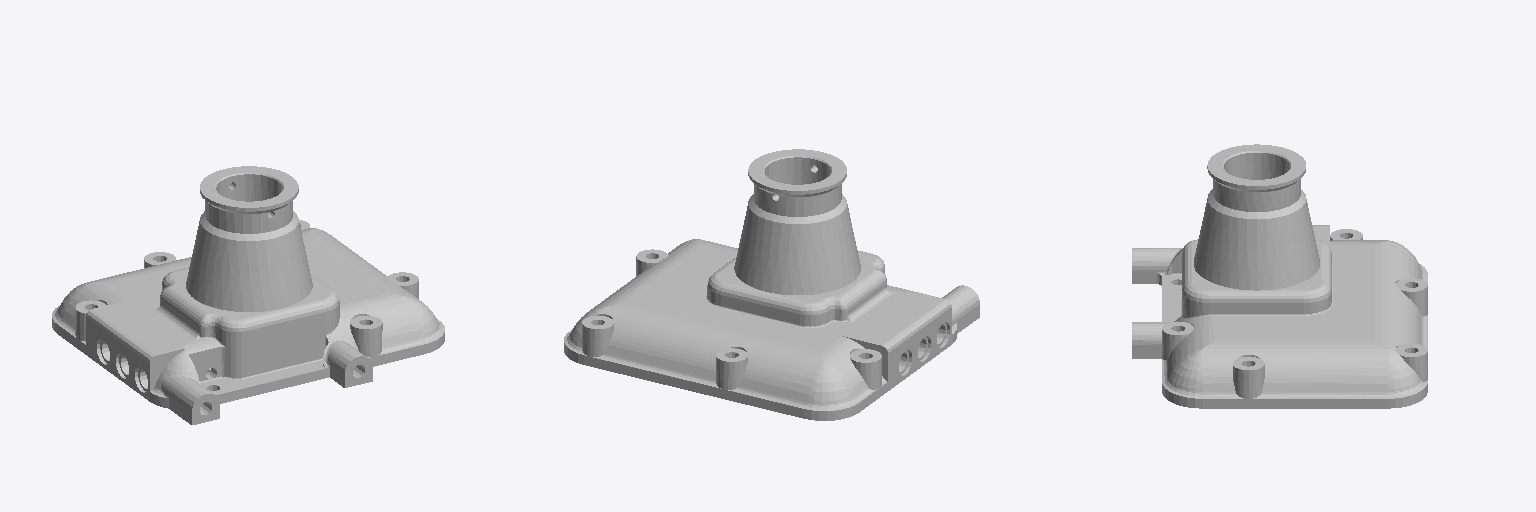
Rendered from 77. Крышка верхняя.obj.
3 renders of one model, left to right at view 1: azimuth 30°, elevation 25°; view 2: azimuth 150°, elevation 25°; view 3: azimuth 270°, elevation 25°, orthographic.
Parts seen in each view (by area): view 1: Твердое тело1; view 2: Твердое тело1; view 3: Твердое тело1.
Part boxes in pixels (x1,y1,x2,y2): Твердое тело1: (52,166,444,424); Твердое тело1: (564,149,979,420); Твердое тело1: (1132,144,1427,408).
Bounding box in the file's own units: 247 × 133 × 218.